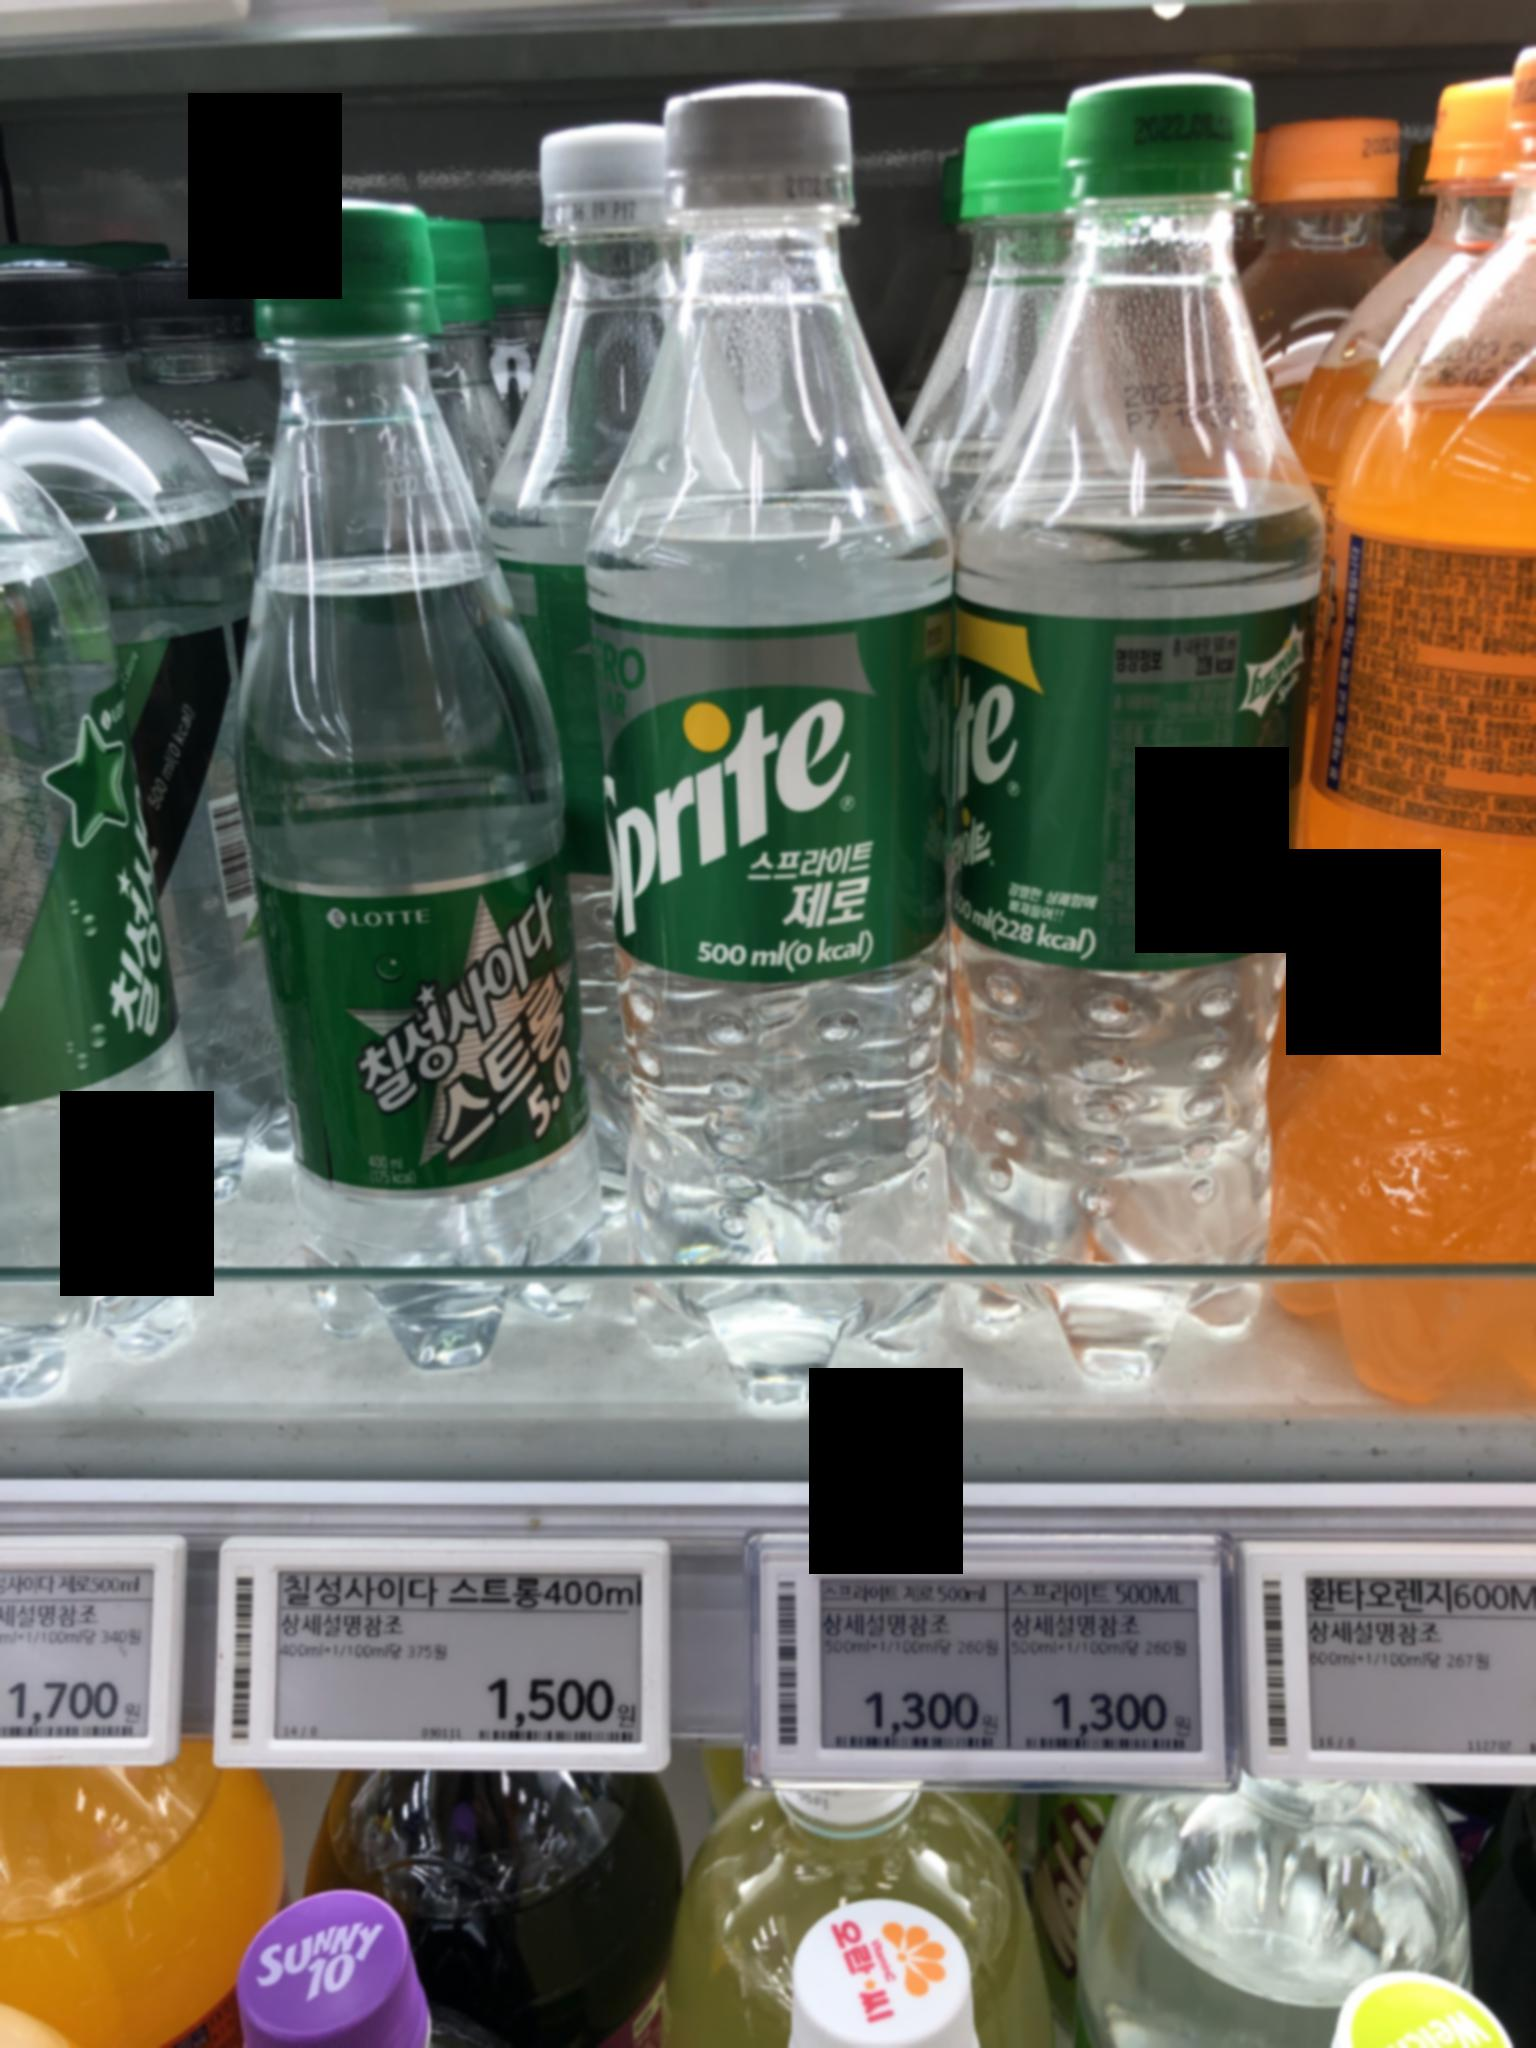sprite_zero: (565, 66, 954, 1424)
